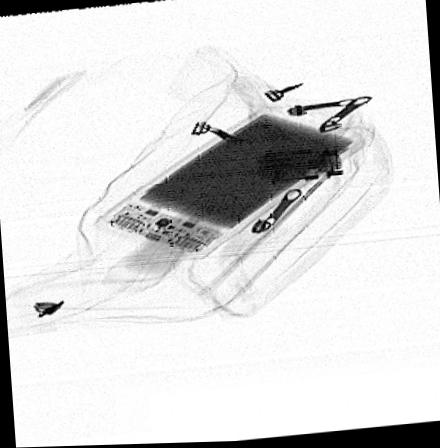Powerbank: (91, 109, 365, 260)
